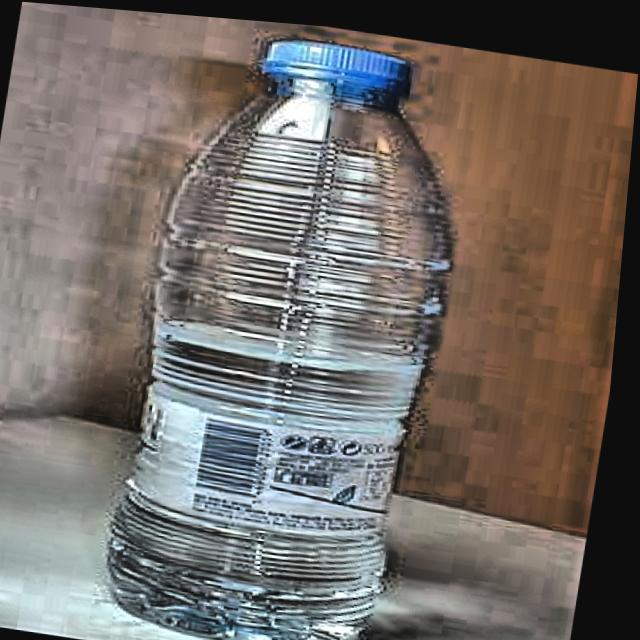Bottles: (105, 11, 482, 640)
